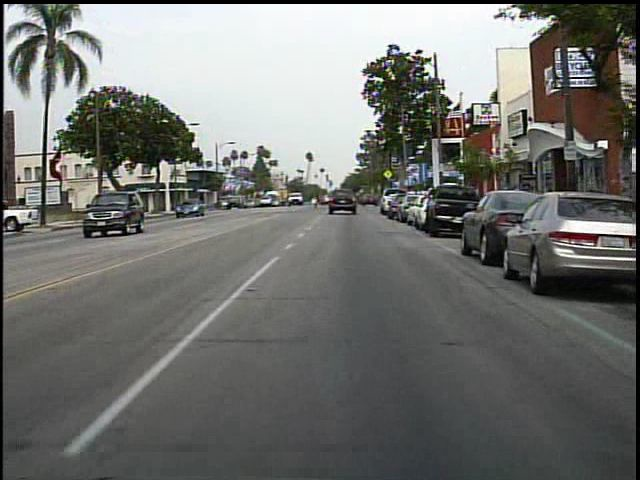person: (315, 187, 329, 216)
